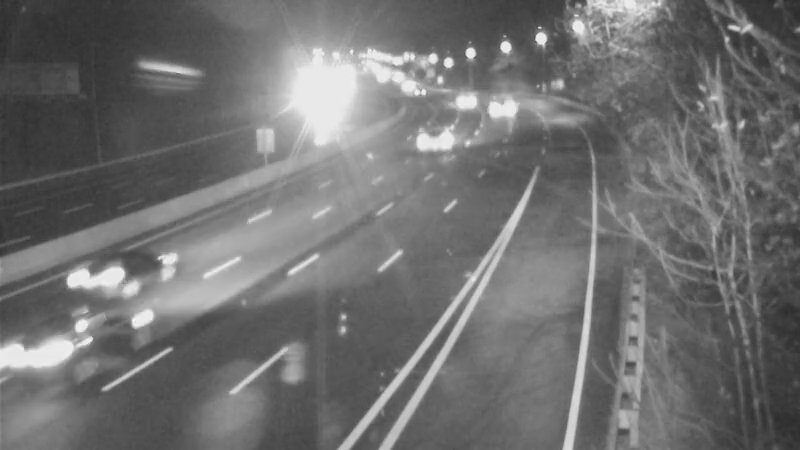vehicle: (1, 297, 111, 407), (50, 237, 130, 317), (394, 67, 444, 117), (441, 76, 491, 126), (473, 83, 523, 133), (413, 114, 463, 164), (292, 75, 342, 125)
